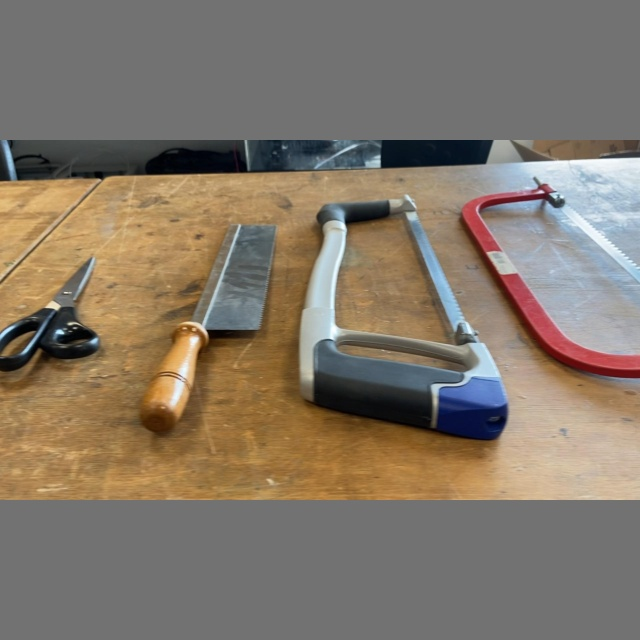scissor: (0, 253, 106, 380)
